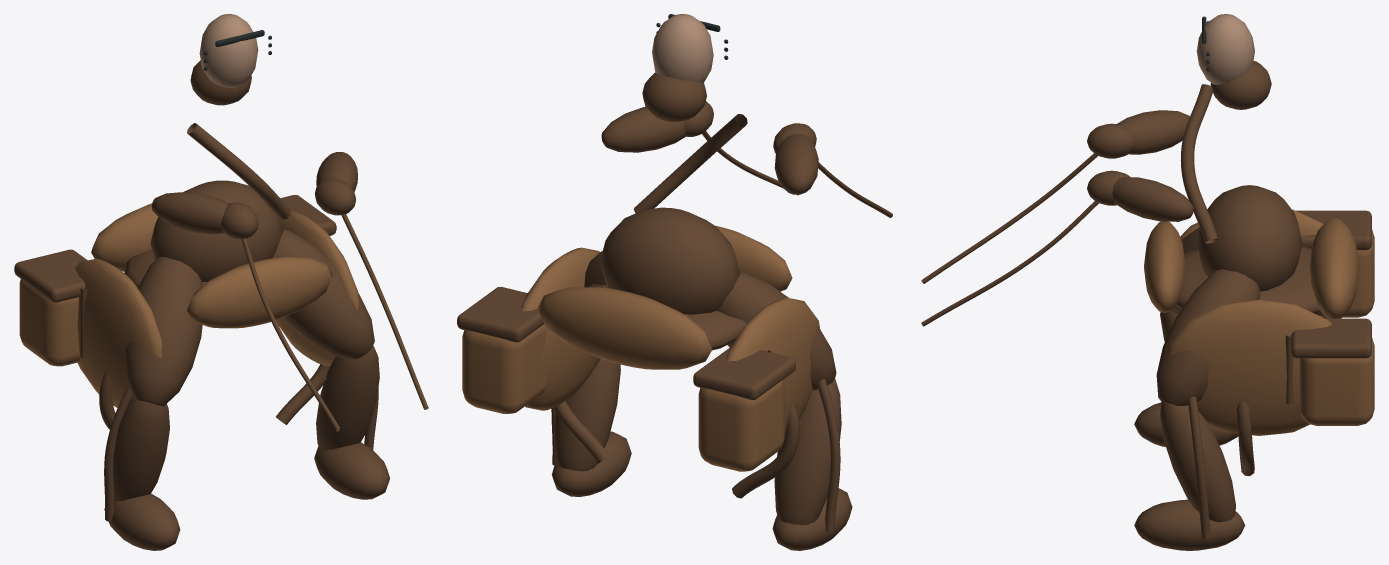
File: rider_leather.glb
3 renders of one model, left to right at view 1: azimuth 30°, elevation 25°; view 2: azimuth 150°, elevation 25°; view 3: azimuth 270°, elevation 25°, orthographic. The views are drawn at different scales.
Parts seen in each view (by area): view 1: Rider leather; view 2: Rider leather; view 3: Rider leather.
Boxes of the visible parts, <box> form: Rider leather: <box>14,14,428,550</box>; Rider leather: <box>457,14,892,550</box>; Rider leather: <box>921,14,1374,550</box>.
Bounding box in the file's own units: 1.17 × 1.91 × 1.63.
